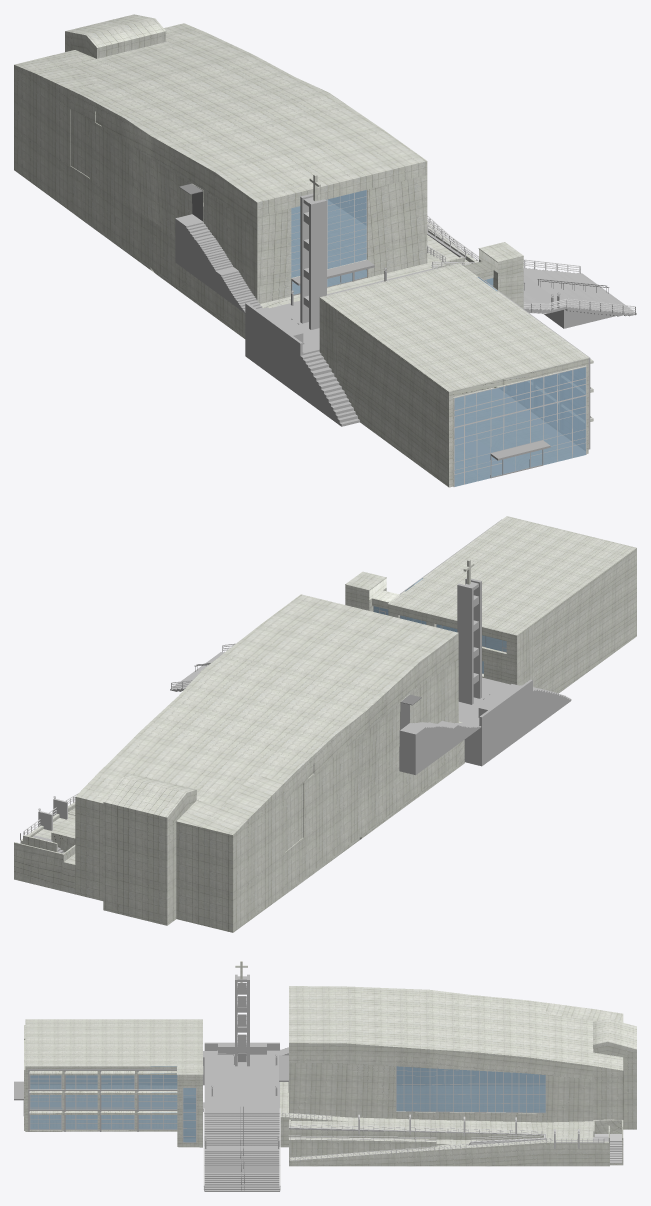
The picture shows the model from 3 angles, top to bottom: view 1: azimuth 30°, elevation 25°; view 2: azimuth 150°, elevation 25°; view 3: azimuth 270°, elevation 25°; orthographic projection. The views are drawn at different scales.
Parts seen in each view (by area): view 1: right10:polySurface1, left:polySurface1, pCube12, stairs:polySurface1, pCube22, polySurface28; view 2: right10:polySurface1, left:polySurface1, pCube12, stairs:polySurface1, polySurface28, pCube22; view 3: right10:polySurface1, left:polySurface1, pCube12, stairs:polySurface1, left:polySurface51, polySurface28, pCube209, pCube93.
Part boxes in pixels (bbox=[...]): right10:polySurface1: bbox=[14, 14, 477, 338]; left:polySurface1: bbox=[319, 242, 593, 487]; pCube12: bbox=[245, 268, 634, 426]; stairs:polySurface1: bbox=[246, 268, 636, 426]; pCube22: bbox=[175, 214, 262, 313]; polySurface28: bbox=[300, 193, 326, 329]; right10:polySurface1: bbox=[14, 594, 464, 932]; left:polySurface1: bbox=[345, 516, 636, 693]; pCube12: bbox=[173, 652, 571, 748]; stairs:polySurface1: bbox=[170, 651, 569, 766]; polySurface28: bbox=[457, 578, 481, 704]; pCube22: bbox=[399, 721, 481, 775]; right10:polySurface1: bbox=[279, 986, 636, 1166]; left:polySurface1: bbox=[14, 1019, 203, 1147]; pCube12: bbox=[148, 1042, 279, 1191]; stairs:polySurface1: bbox=[203, 1042, 279, 1191]; left:polySurface51: bbox=[28, 1069, 177, 1131]; polySurface28: bbox=[233, 974, 249, 1066]; pCube209: bbox=[289, 1127, 543, 1134]; pCube93: bbox=[594, 1134, 622, 1163].
Bounding box in the file's own units: 38.87 × 21.29 × 90.71.
